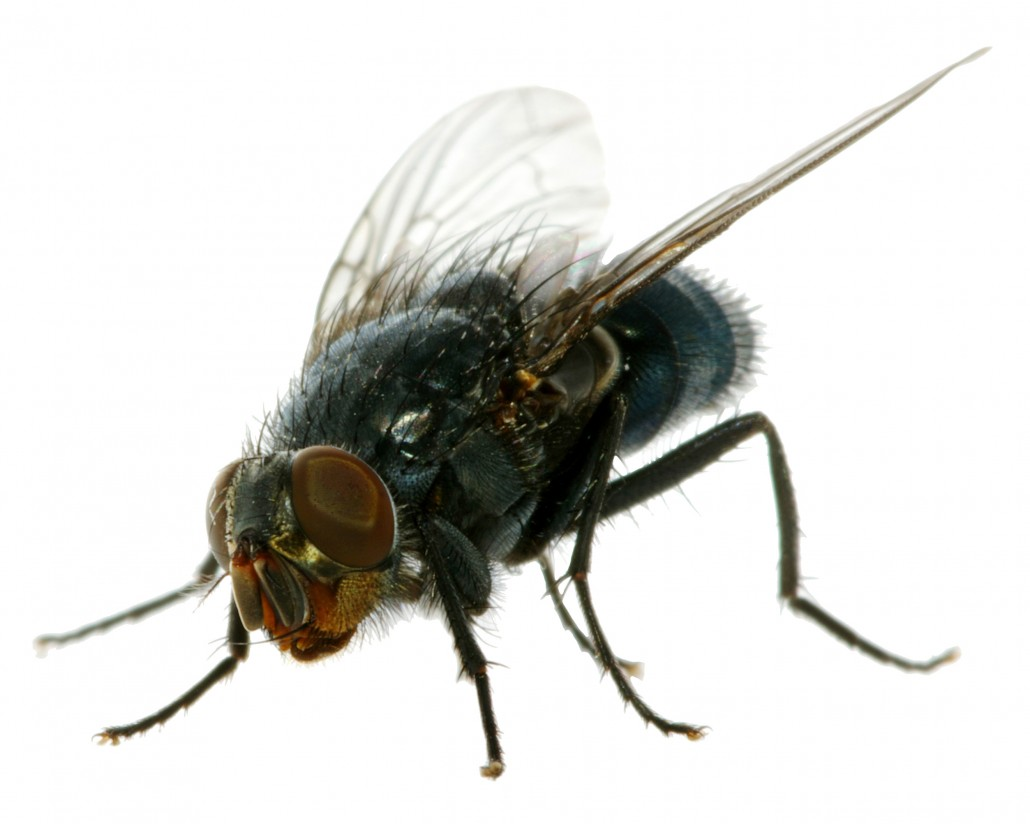fly: (24, 41, 995, 783)
